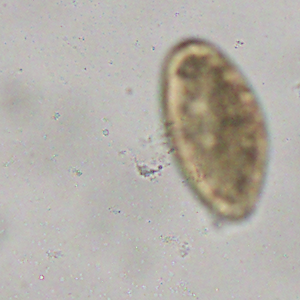Fasciola_hepatica_egg: (159, 36, 271, 223)
